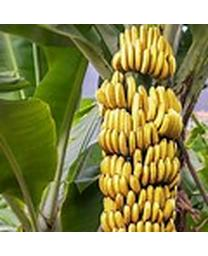banana: (95, 24, 184, 233)
